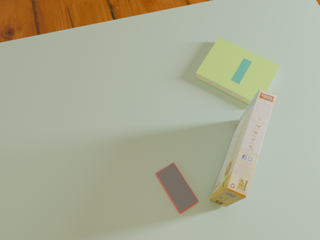book: (195, 37, 280, 104)
box: (210, 89, 276, 207)
phone: (156, 163, 198, 213)
